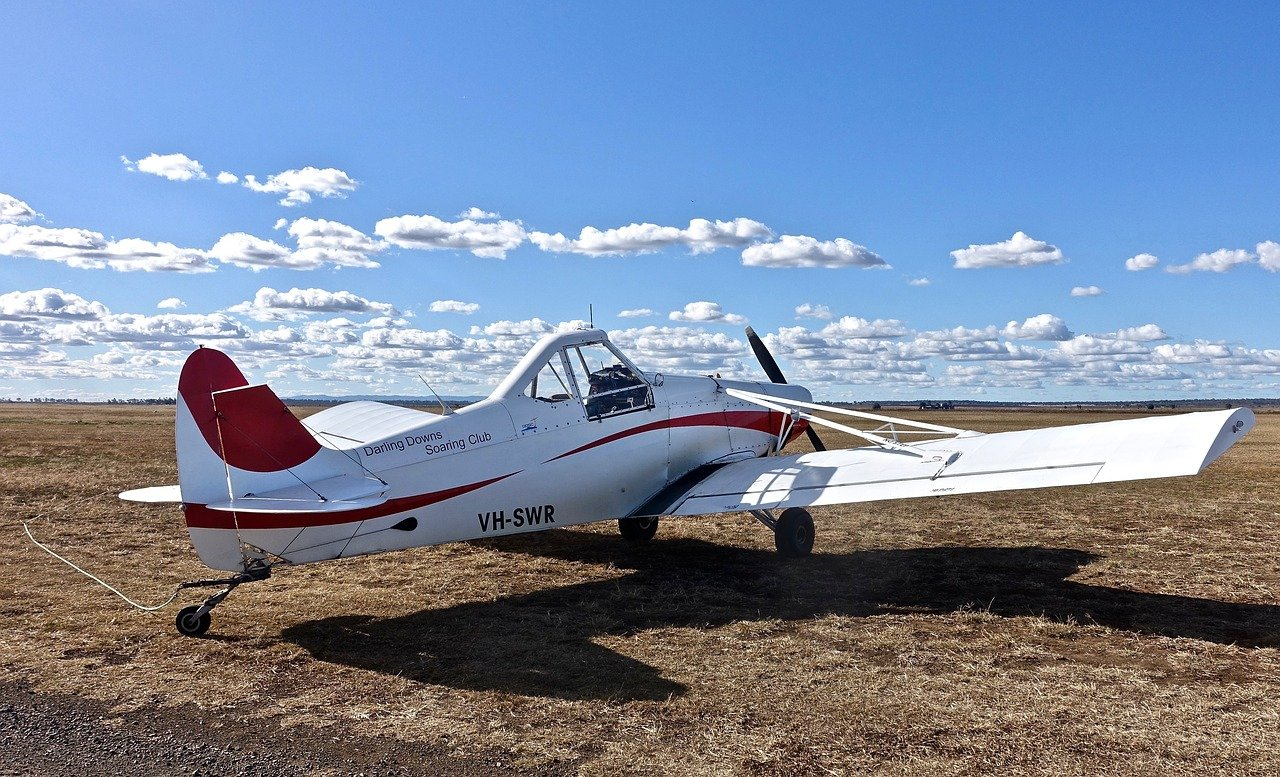Aeronef_de_loisir: (103, 297, 1257, 645)
